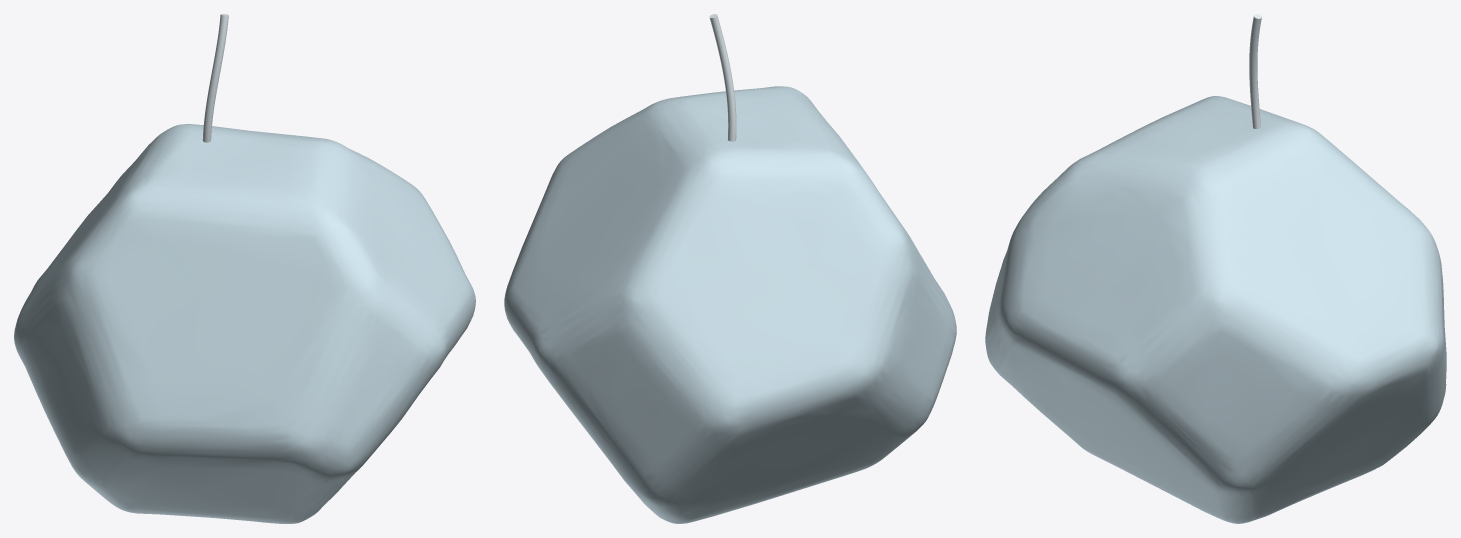
The model's file is cell.glb.
3 renders of one model, left to right at view 1: azimuth 30°, elevation 25°; view 2: azimuth 150°, elevation 25°; view 3: azimuth 270°, elevation 25°, orthographic.
Parts seen in each view (by area): view 1: Membrane, Cilium; view 2: Membrane, Cilium; view 3: Membrane, Cilium.
Part boxes in pixels (x1,y1,x2,y2): Membrane: [14, 124, 475, 523]; Cilium: [202, 14, 228, 142]; Membrane: [504, 86, 956, 523]; Cilium: [709, 14, 736, 141]; Membrane: [985, 96, 1446, 523]; Cilium: [1249, 14, 1261, 128].
Size of the model in its own units: 13.52 by 16.17 by 14.49.
